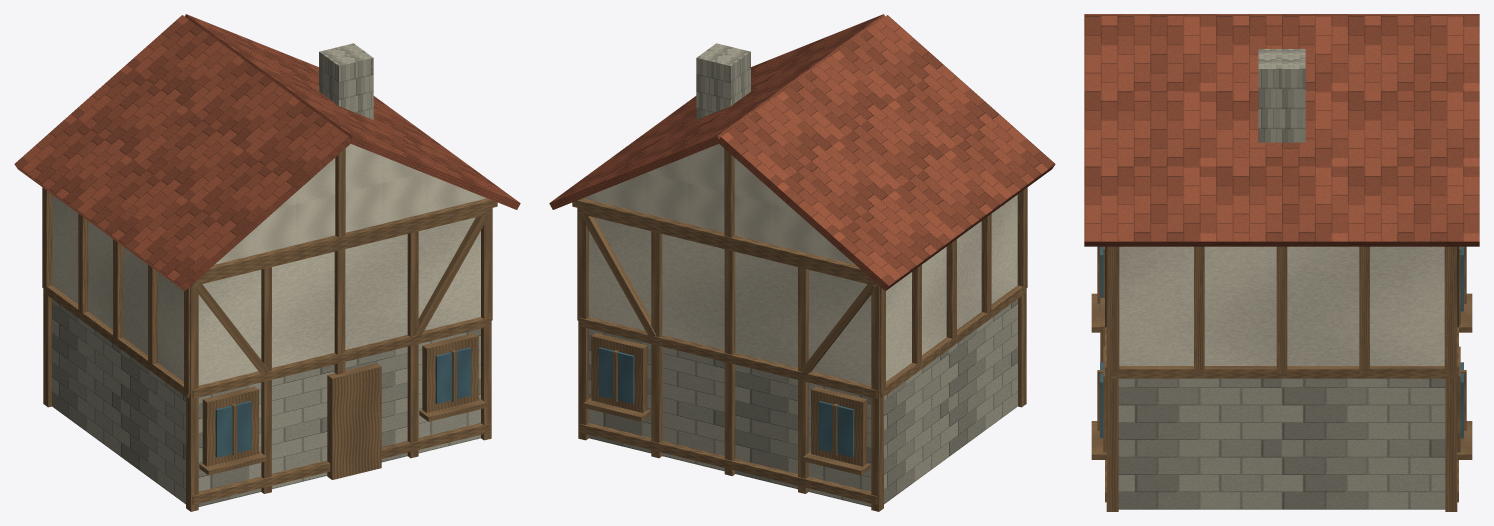
3 views of the same model, side by side, from view 1: azimuth 30°, elevation 25°; view 2: azimuth 150°, elevation 25°; view 3: azimuth 270°, elevation 25° (orthographic). The views are drawn at different scales.
Parts seen in each view (by area): view 1: house-roof, house-wood, house-plaster, house-stone, house-glass; view 2: house-roof, house-plaster, house-wood, house-stone, house-glass; view 3: house-roof, house-stone, house-plaster, house-wood, house-glass.
Part boxes in pixels (left/top/right/bottom): house-roof: left=14, top=14, right=520, bottom=291; house-wood: left=42, top=148, right=497, bottom=511; house-plaster: left=52, top=144, right=486, bottom=385; house-stone: left=52, top=43, right=480, bottom=506; house-glass: left=215, top=347, right=471, bottom=457; house-roof: left=549, top=14, right=1055, bottom=291; house-plaster: left=583, top=144, right=1017, bottom=385; house-wood: left=572, top=148, right=1027, bottom=511; house-stone: left=589, top=43, right=1017, bottom=506; house-glass: left=598, top=347, right=854, bottom=457; house-roof: left=1084, top=14, right=1479, bottom=246; house-stone: left=1118, top=49, right=1445, bottom=509; house-plaster: left=1119, top=246, right=1444, bottom=365; house-wood: left=1091, top=246, right=1472, bottom=511; house-glass: left=1100, top=246, right=1463, bottom=438.
Size of the model in its own units: 7.88 by 7.7 by 6.7.
5 materials, 5 textured.
